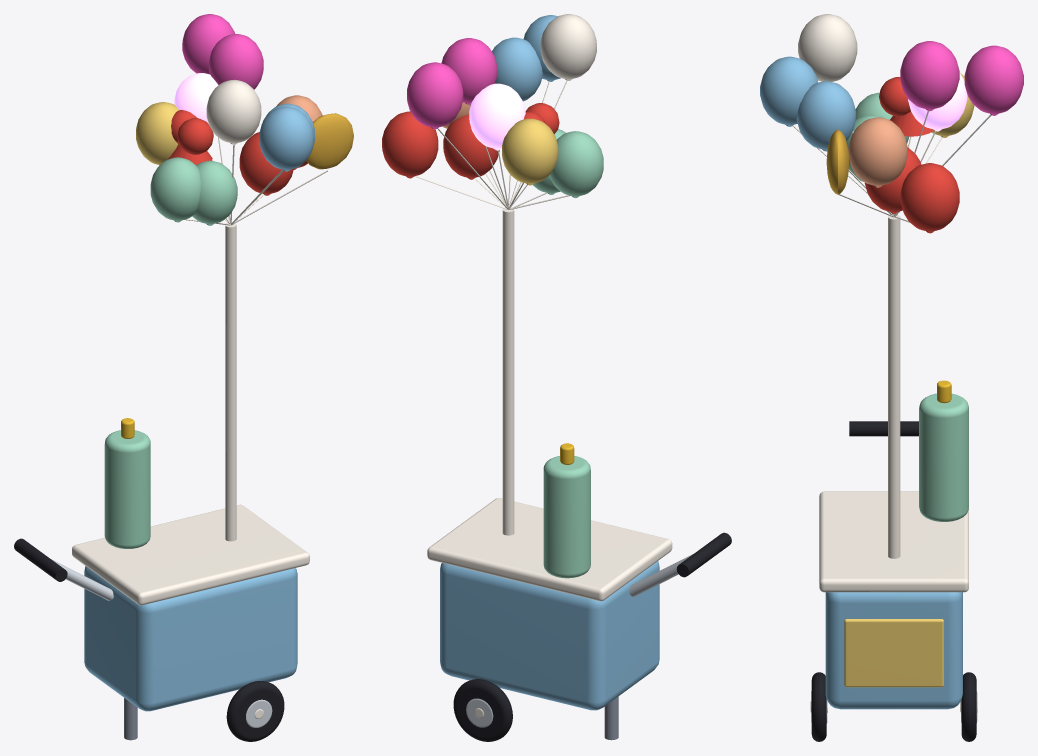
File: balloon_stand.glb
3 views of the same model, side by side, from view 1: azimuth 30°, elevation 25°; view 2: azimuth 150°, elevation 25°; view 3: azimuth 270°, elevation 25° (orthographic). The views are drawn at different scales.
Parts seen in each view (by area): view 1: balloon_stand; view 2: balloon_stand; view 3: balloon_stand.
Part boxes in pixels (x1,y1,x2,y2): balloon_stand: (14,14,353,741); balloon_stand: (382,14,731,741); balloon_stand: (760,14,1023,741).
Size of the model in its own units: 1.49 by 3.15 by 1.06.
1 material, 1 textured.
